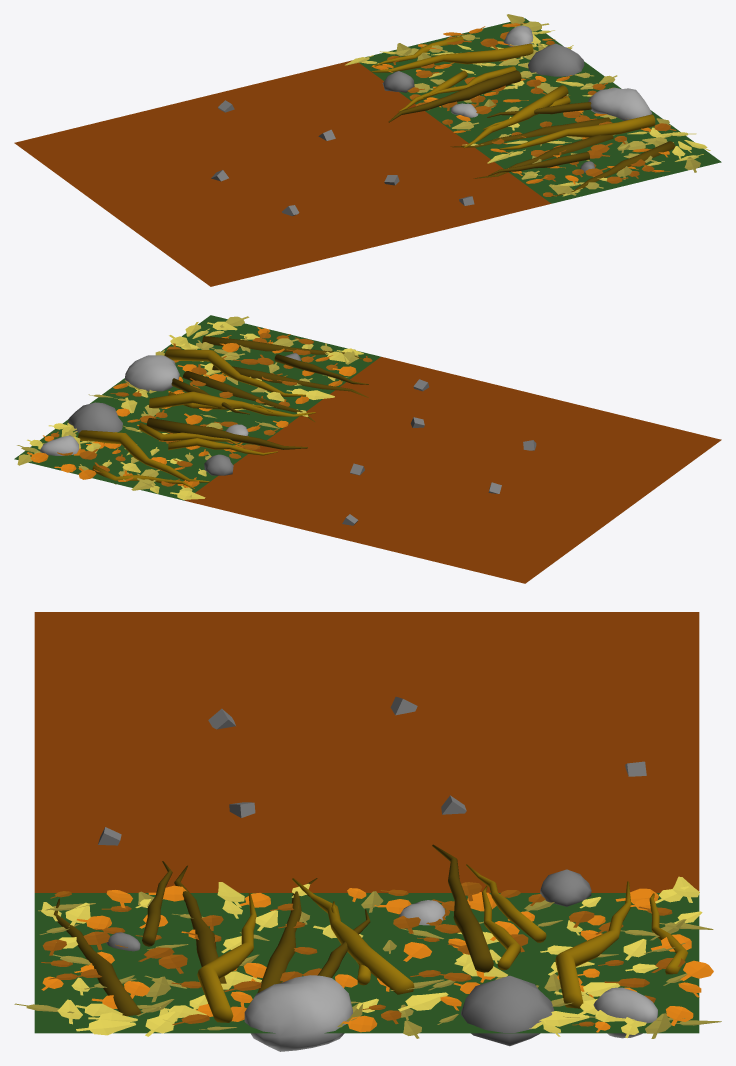
File: sol map sombreD1.fbx
3 renders of one model, top to bottom at view 1: azimuth 30°, elevation 25°; view 2: azimuth 150°, elevation 25°; view 3: azimuth 270°, elevation 25°, orthographic. The views are drawn at different scales.
Parts seen in each view (by area): view 1: sol sombre droite1; view 2: sol sombre droite1; view 3: sol sombre droite1.
Boxes of the visible parts, box(x1,y1,x2,y2) form: sol sombre droite1: box(14, 14, 721, 286); sol sombre droite1: box(14, 315, 721, 583); sol sombre droite1: box(14, 612, 721, 1051).
Bounding box in the file's own units: 306 × 19.88 × 213.
